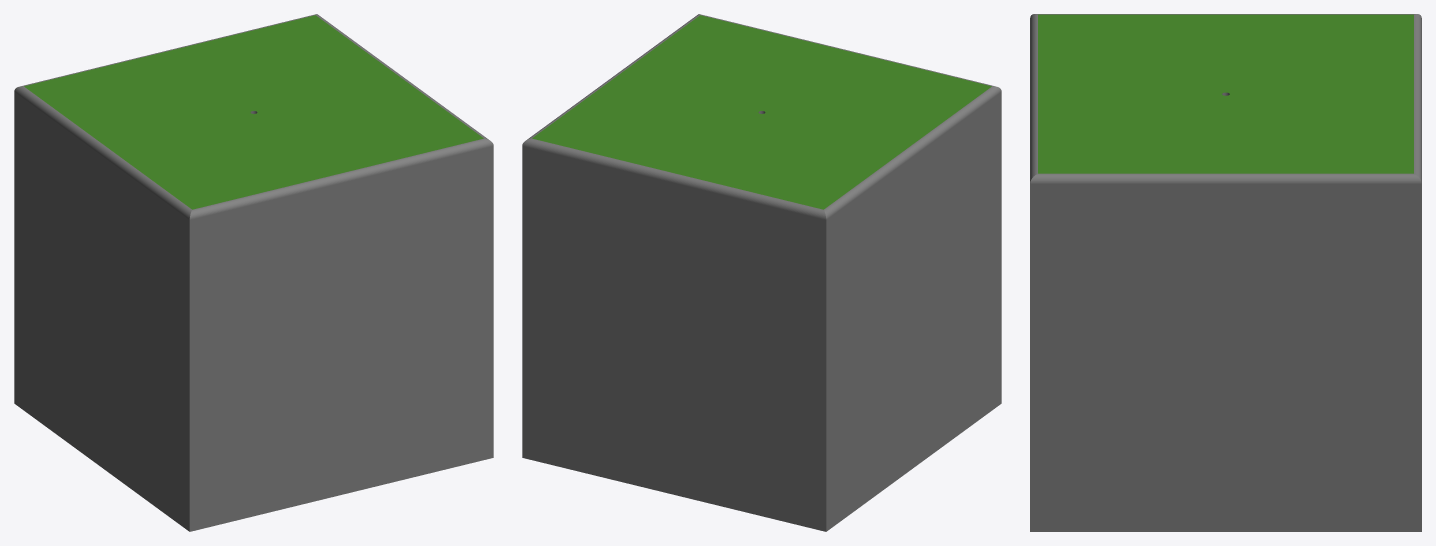
Rendered from mock_milling_plate.dae.
3 renders of one model, left to right at view 1: azimuth 30°, elevation 25°; view 2: azimuth 150°, elevation 25°; view 3: azimuth 270°, elevation 25°, orthographic. The views are drawn at different scales.
Parts seen in each view (by area): view 1: ID2; view 2: ID2; view 3: ID2.
Part boxes in pixels (<box>): ID2: <box>14,14,493,531</box>; ID2: <box>522,14,1001,531</box>; ID2: <box>1030,14,1421,531</box>.
Bounding box in the file's own units: 0.25 × 0.25 × 0.25.
